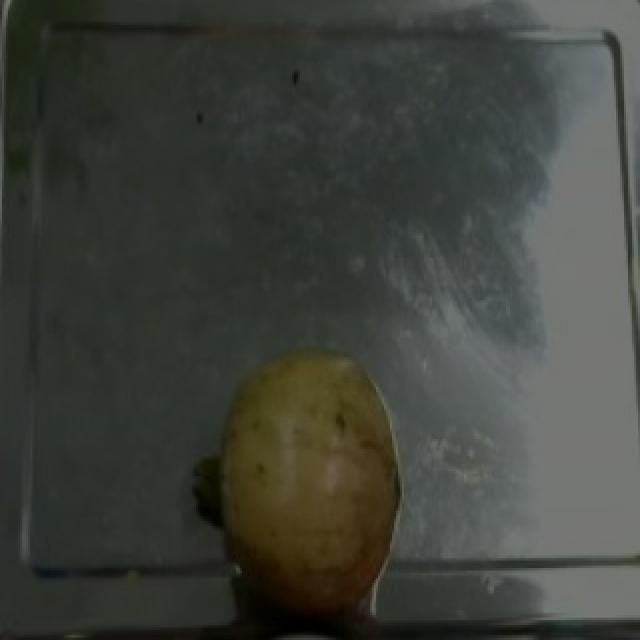fruit: (186, 325, 418, 600)
